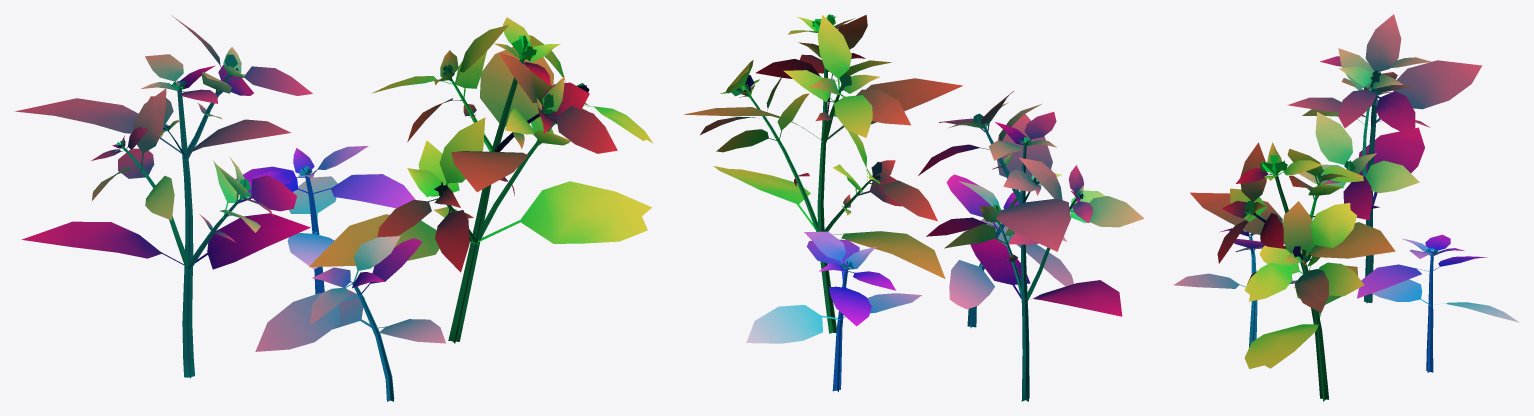
File: Common_Hemp_Nettle_xh1kdfbqx_Low_xh1kdfbqx_VarF_LOD0.fbx
3 views of the same model, side by side, from view 1: azimuth 30°, elevation 25°; view 2: azimuth 150°, elevation 25°; view 3: azimuth 270°, elevation 25° (orthographic). The views are drawn at different scales.
Visible parts, largest first — view 1: _2lzl_VarF_LOD2; view 2: _2lzl_VarF_LOD2; view 3: _2lzl_VarF_LOD2.
Boxes of the visible parts, bbox=[...] form: _2lzl_VarF_LOD2: bbox=[14, 15, 653, 401]; _2lzl_VarF_LOD2: bbox=[684, 14, 1143, 401]; _2lzl_VarF_LOD2: bbox=[1173, 14, 1519, 401].
Size of the model in its own units: 133 by 83.64 by 90.66.
